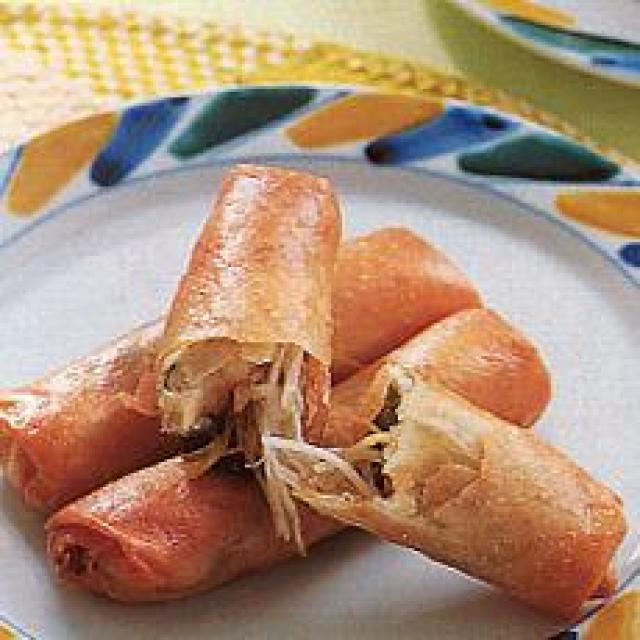鸡蛋料理: (0, 164, 626, 640)
